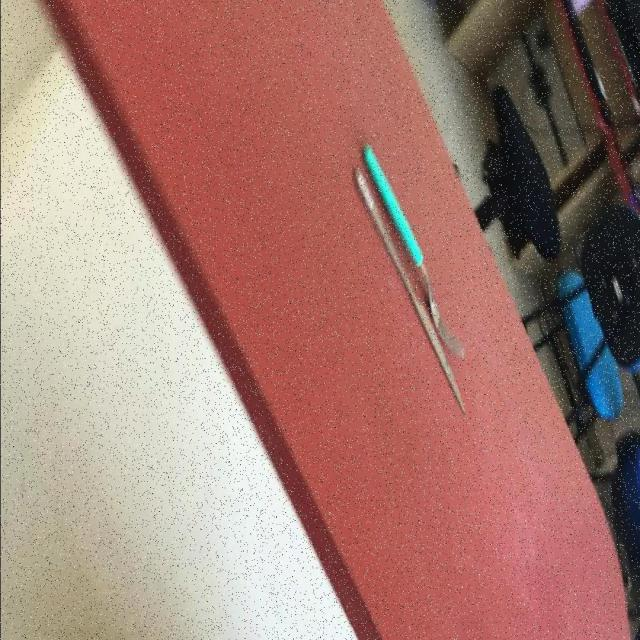Knife: (352, 162, 468, 414), (361, 141, 467, 359)
